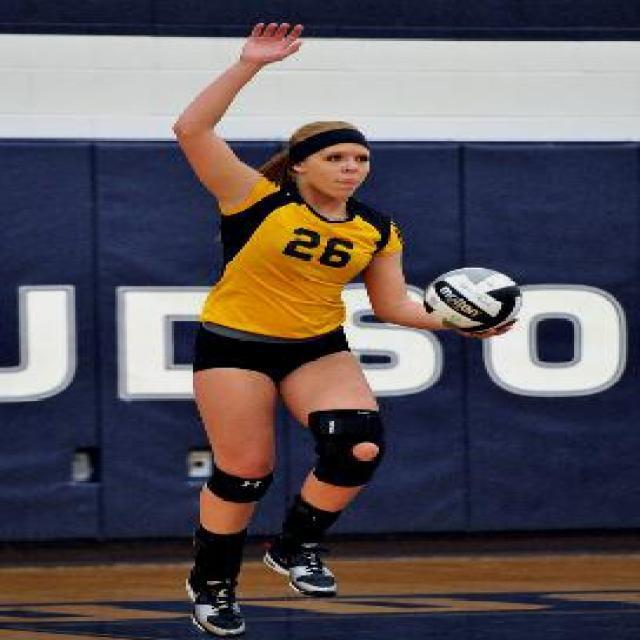volleyball: (423, 267, 522, 333)
